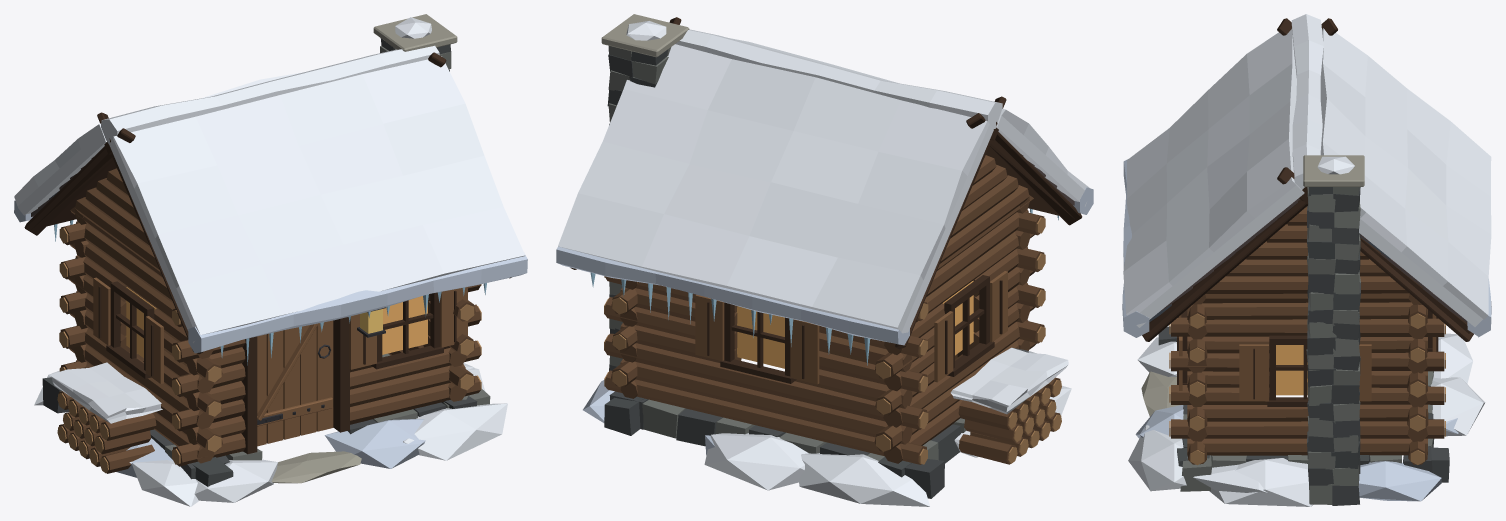
The model's file is LogCabin_A.glb.
The picture shows the model from 3 angles, left to right: view 1: azimuth 30°, elevation 25°; view 2: azimuth 150°, elevation 25°; view 3: azimuth 270°, elevation 25°; orthographic projection. The views are drawn at different scales.
Parts seen in each view (by area): view 1: RoofSnow__Snow, Wall__Log, Drift__Snow, Door__Plank, RoofSnowLip__SnowShade, WindowsFrames__Timber, WindowsShutters__Shutter, WoodpileSnow__Snow, DriftB__SnowShade, DoorFrame__Timber, RoofGables__Log, Woodpile__Log (+10 smaller); view 2: RoofSnow__Snow, Wall__Log, Drift__Snow, RoofSnowLip__SnowShade, WindowsFrames__Timber, WindowsShutters__Shutter, FoundationB__StoneDark, WoodpileSnow__Snow, RoofGables__Log, Woodpile__Log, RoofTrim__Timber, Foundation__Stone (+10 smaller); view 3: RoofSnow__Snow, Wall__Log, Drift__Snow, ChimneyB__StoneDark, Chimney__Stone, RoofGables__Log, RoofTrim__Timber, DriftB__SnowShade, WindowsShutters__Shutter, WallEnds__LogEnd, WindowsFrames__Timber, Foundation__Stone (+8 smaller).
Boxes of the visible parts, x1=… form: RoofSnow__Snow: x1=14, y1=45, x2=525, y2=343; Wall__Log: x1=60, y1=207, x2=480, y2=466; Drift__Snow: x1=34, y1=363, x2=507, y2=506; Door__Plank: x1=257, y1=320, x2=333, y2=446; RoofSnowLip__SnowShade: x1=14, y1=200, x2=527, y2=353; WindowsFrames__Timber: x1=98, y1=281, x2=456, y2=378; WindowsShutters__Shutter: x1=93, y1=277, x2=467, y2=383; WoodpileSnow__Snow: x1=49, y1=362, x2=162, y2=423; DriftB__SnowShade: x1=116, y1=419, x2=425, y2=477; DoorFrame__Timber: x1=241, y1=317, x2=349, y2=454; RoofGables__Log: x1=75, y1=168, x2=160, y2=272; Woodpile__Log: x1=59, y1=391, x2=156, y2=473; RoofSnow__Snow: x1=558, y1=29, x2=1089, y2=333; Wall__Log: x1=604, y1=194, x2=1044, y2=464; Drift__Snow: x1=704, y1=385, x2=1071, y2=506; RoofSnowLip__SnowShade: x1=556, y1=187, x2=1093, y2=345; WindowsFrames__Timber: x1=707, y1=275, x2=1002, y2=383; WindowsShutters__Shutter: x1=695, y1=271, x2=1007, y2=384; FoundationB__StoneDark: x1=604, y1=391, x2=960, y2=498; WoodpileSnow__Snow: x1=950, y1=347, x2=1068, y2=414; RoofGables__Log: x1=940, y1=155, x2=1029, y2=263; Woodpile__Log: x1=958, y1=377, x2=1060, y2=464; RoofTrim__Timber: x1=570, y1=17, x2=1082, y2=349; Foundation__Stone: x1=642, y1=399, x2=966, y2=460; RoofSnow__Snow: x1=1123, y1=14, x2=1491, y2=327; Wall__Log: x1=1171, y1=206, x2=1444, y2=464; Drift__Snow: x1=1128, y1=333, x2=1485, y2=506; ChimneyB__StoneDark: x1=1307, y1=187, x2=1360, y2=505; Chimney__Stone: x1=1306, y1=187, x2=1360, y2=504; RoofGables__Log: x1=1205, y1=207, x2=1408, y2=293; RoofTrim__Timber: x1=1142, y1=18, x2=1473, y2=341; DriftB__SnowShade: x1=1135, y1=405, x2=1458, y2=501; WindowsShutters__Shutter: x1=1179, y1=314, x2=1436, y2=401; WallEnds__LogEnd: x1=1169, y1=313, x2=1445, y2=465; WindowsFrames__Timber: x1=1177, y1=223, x2=1438, y2=406; Foundation__Stone: x1=1180, y1=371, x2=1433, y2=491.
Size of the model in its own units: 0.1991 by 0.1763 by 0.1689.
